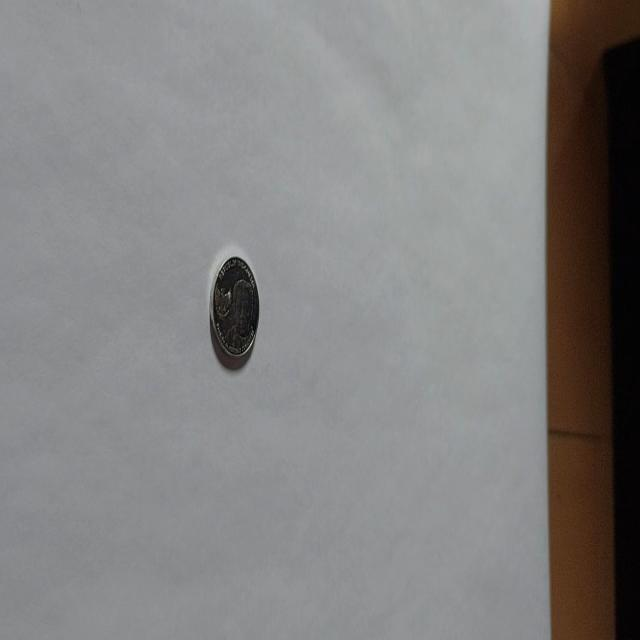seratus rupiah: (208, 254, 260, 364)
